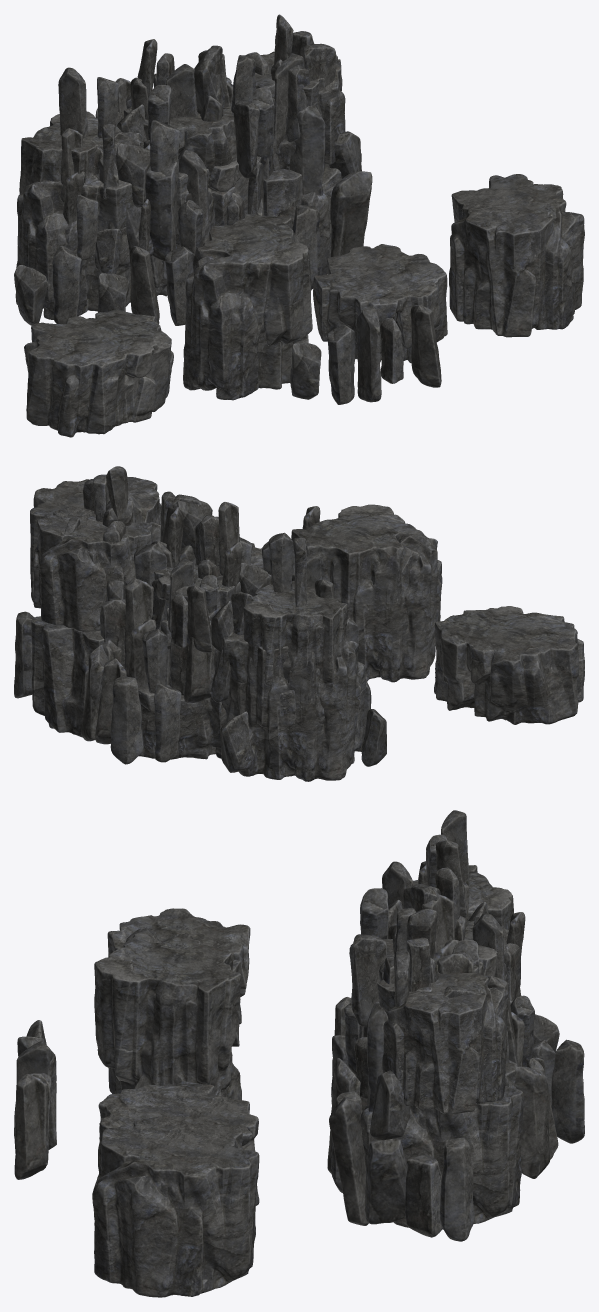
Rendered from rock_sea_sea_rock.glb.
The picture shows the model from 3 angles, top to bottom: view 1: azimuth 30°, elevation 25°; view 2: azimuth 150°, elevation 25°; view 3: azimuth 270°, elevation 25°; orthographic projection. The views are drawn at different scales.
Visible parts, largest first — view 1: Object003_Rock sea n4_0 (×5); view 2: Object003_Rock sea n4_0 (×5); view 3: Object003_Rock sea n4_0 (×4).
Part boxes in pixels (x1=…): Object003_Rock sea n4_0 (×5): x1=14, y1=14, x2=584, y2=437; Object003_Rock sea n4_0 (×5): x1=14, y1=466, x2=584, y2=781; Object003_Rock sea n4_0 (×4): x1=14, y1=810, x2=584, y2=1297.
Bounding box in the file's own units: 0.9505 × 0.423 × 0.7394.
1 material, 1 textured.
